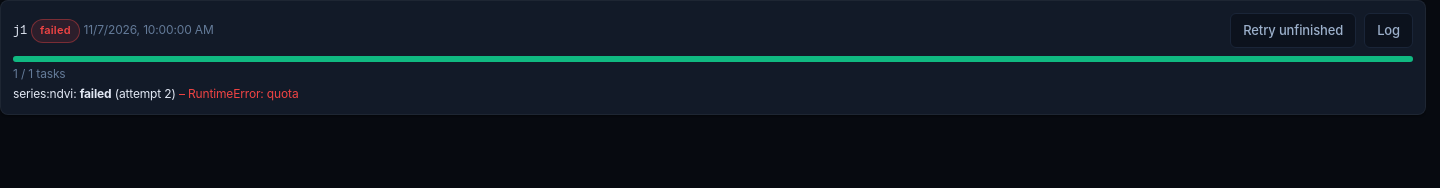
Test: pipeline job control › offers retry for failed jobs, shows task errors and the log
Expected: the button "Retry unfinished" is shown, 1230,13 -> 1356,48
Expected: the text "– RuntimeError: quota" is shown, 176,86 -> 298,101
Click the button "Log". click: (1389,30)
box: 1364,13 -> 1413,48
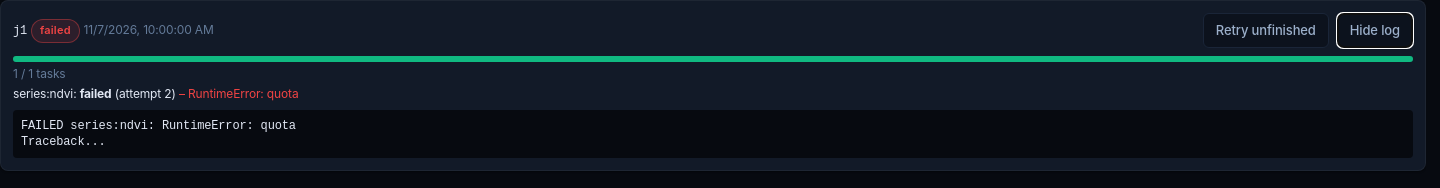
Result: the text "FAILED series:ndvi: RuntimeError: quota Traceback..." is shown at 13,110 -> 1413,158
